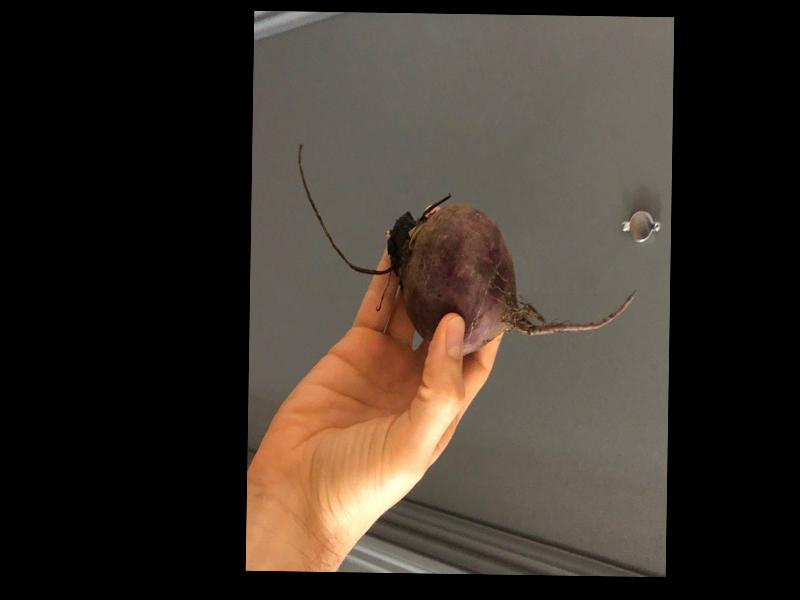Beet: (295, 141, 637, 357)
